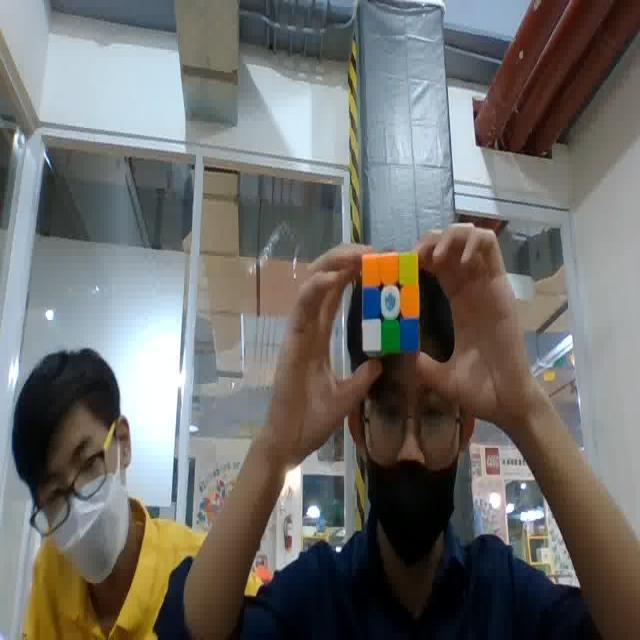Rub: (356, 248, 419, 358)
